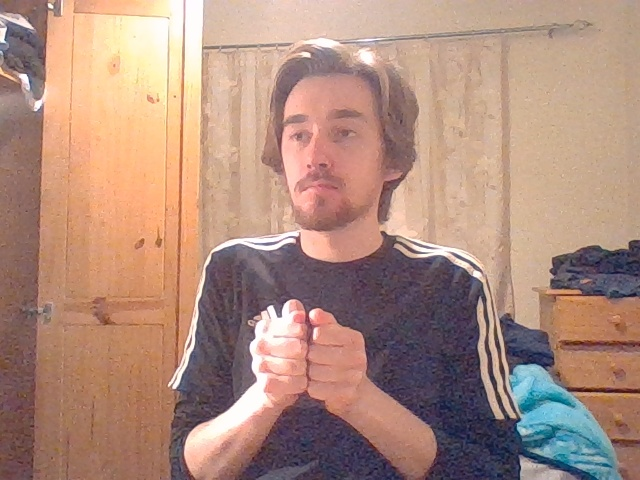brother: (250, 299, 367, 398)
